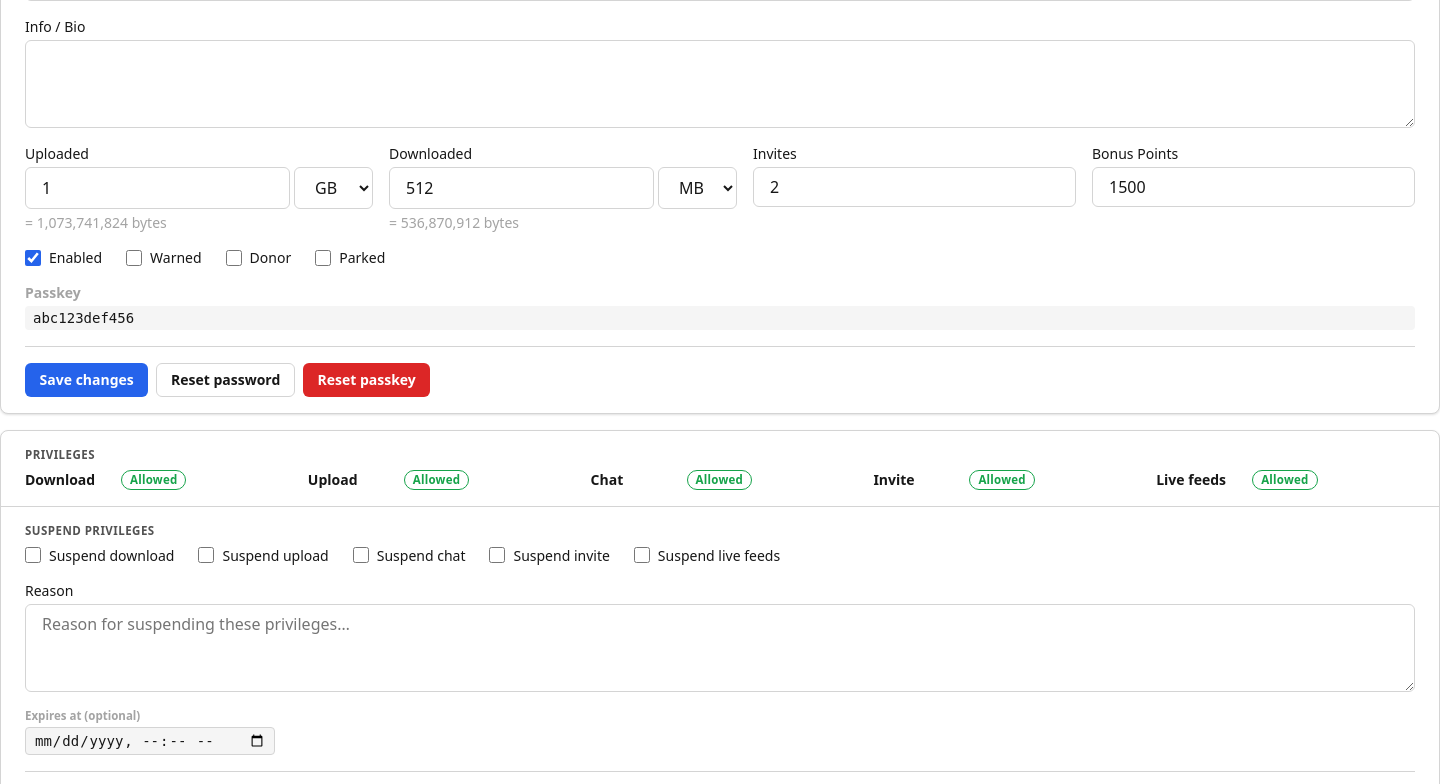
AdminUserDetailPage › opens passkey confirm modal when clicking Reset Passkey
The width and height of the screenshot is (1440, 784).
(page scrolled)
Click the button "Reset passkey": (367, 380) [303,363,430,397]
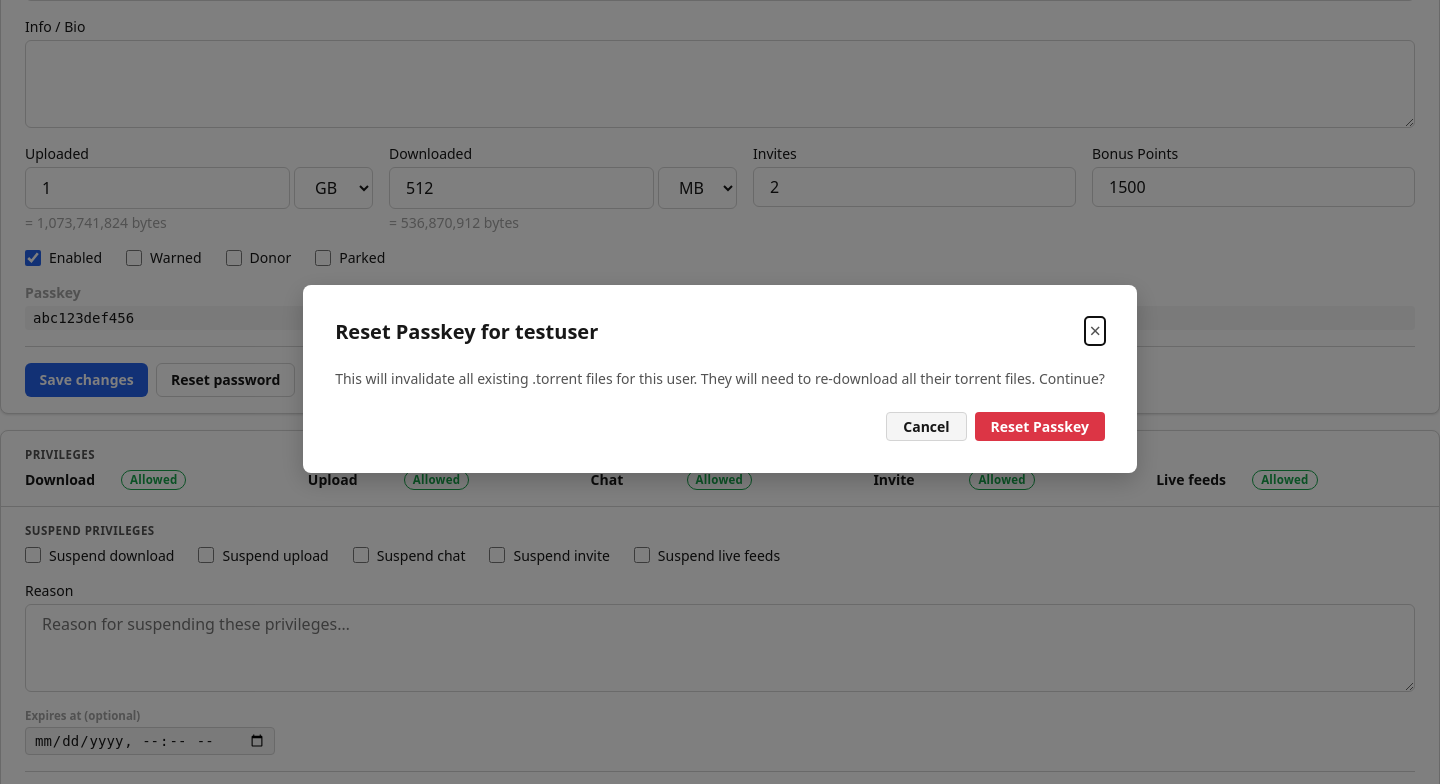
Now the text "invalidate all existing .torrent files" is shown, box [335,369,1105,388]
